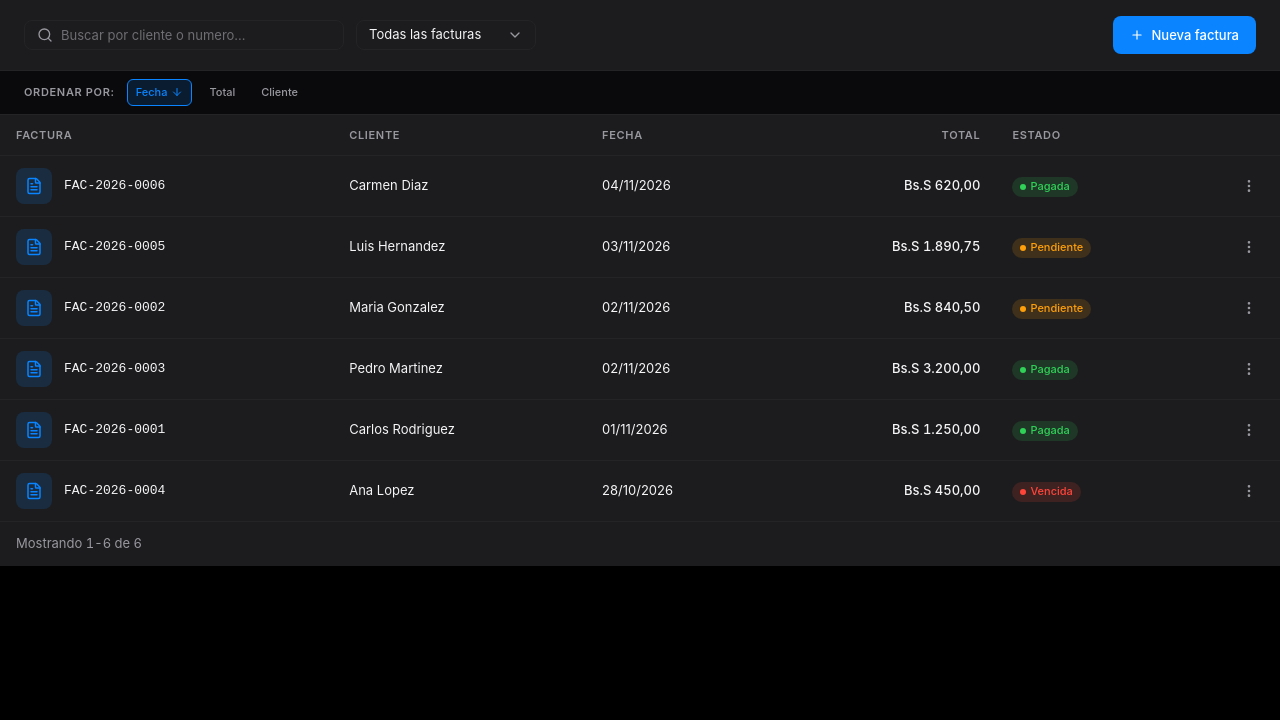
Test: Billing › filters invoices by search term
Expected: the text "FAC-2026-0001" is shown, [64,420,165,440]
Type "Carlos" into the field with placeholder "Buscar por cliente o numero..." at (196, 35), box [61,21,331,49]
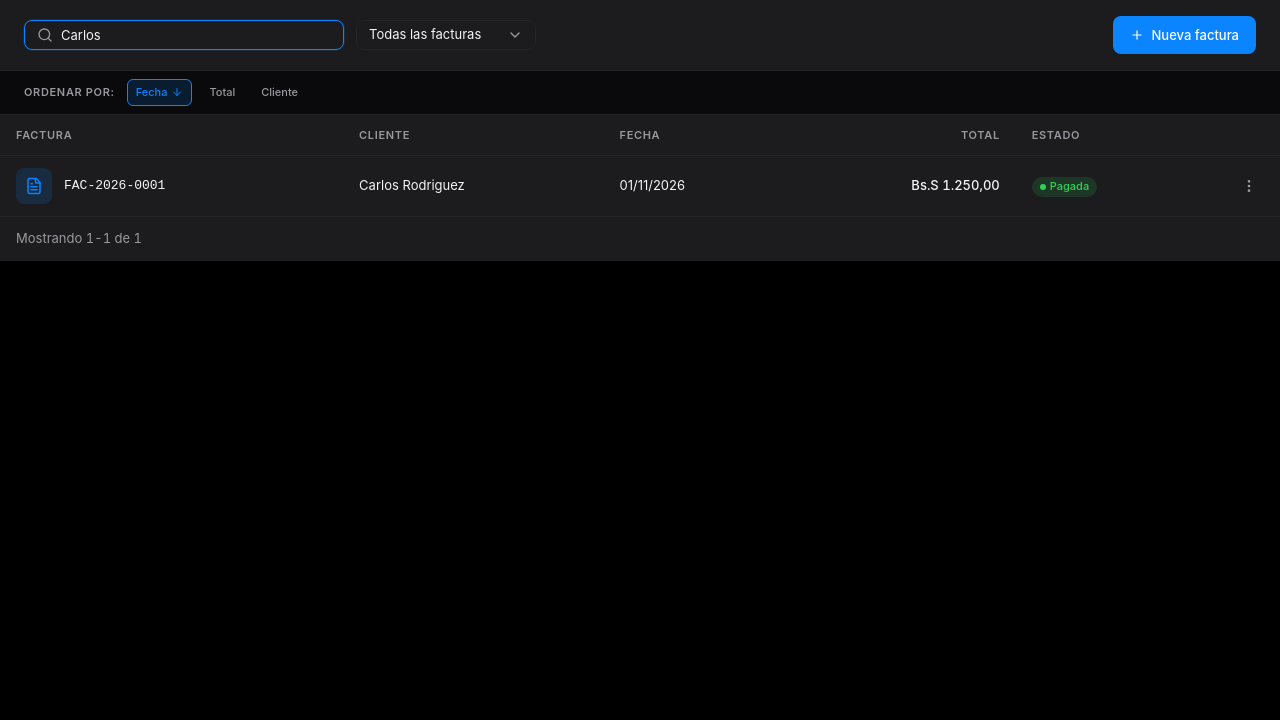
Expected: the text "FAC-2026-0001" is shown, [64,176,165,196]
Result: the text "FAC-2026-0002" is gone
